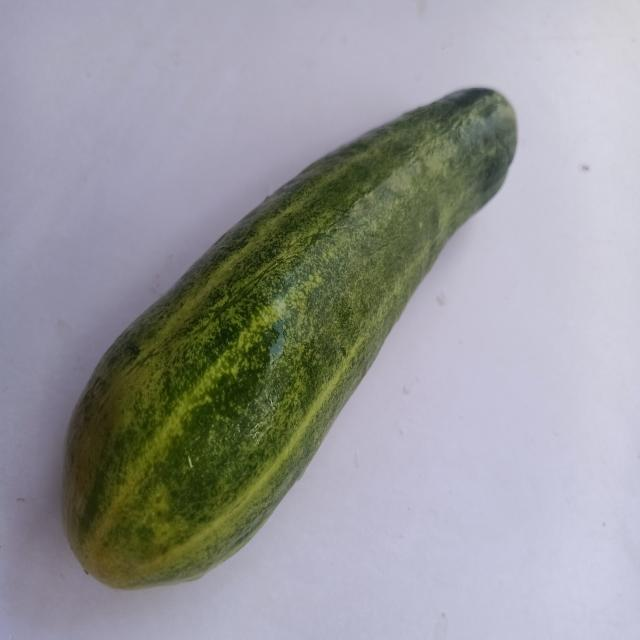Cucumber: (10, 46, 558, 639)
